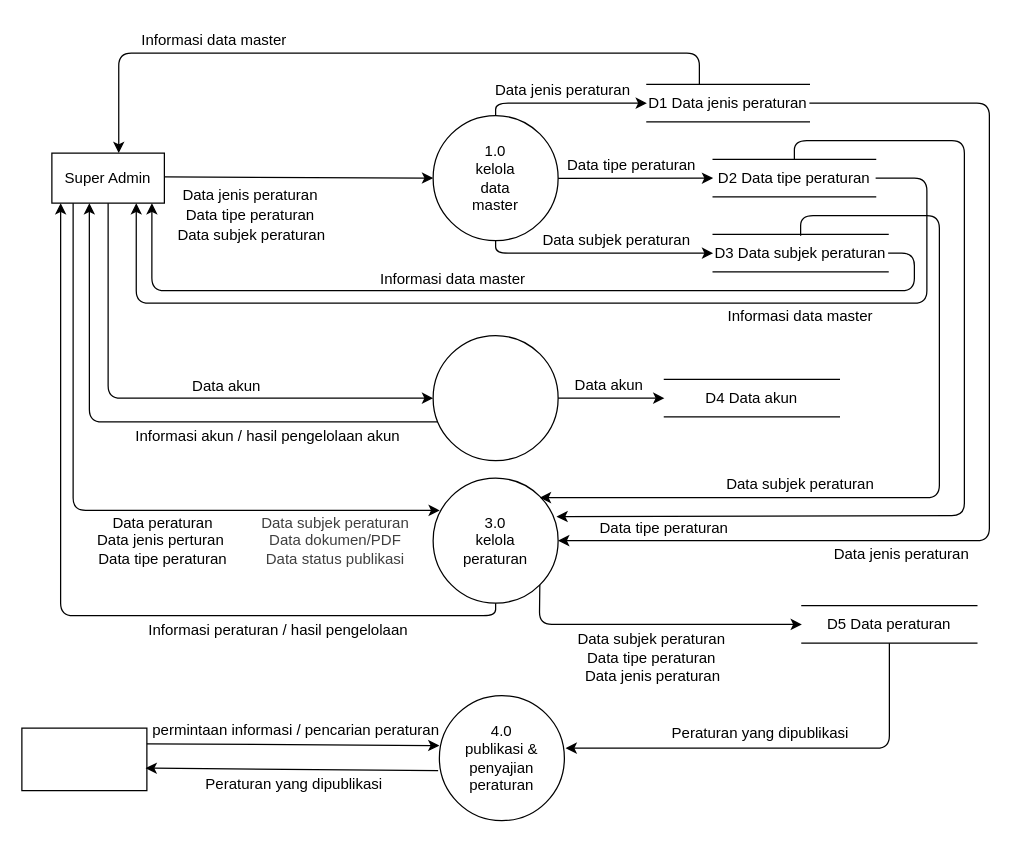
Image size: 1021x843. Some labels were removed from this diagram. Each missing label, with the box of its shape:
2.0 kelola akun: (432, 334, 558, 461)
Pengunjung: (21, 727, 147, 791)
